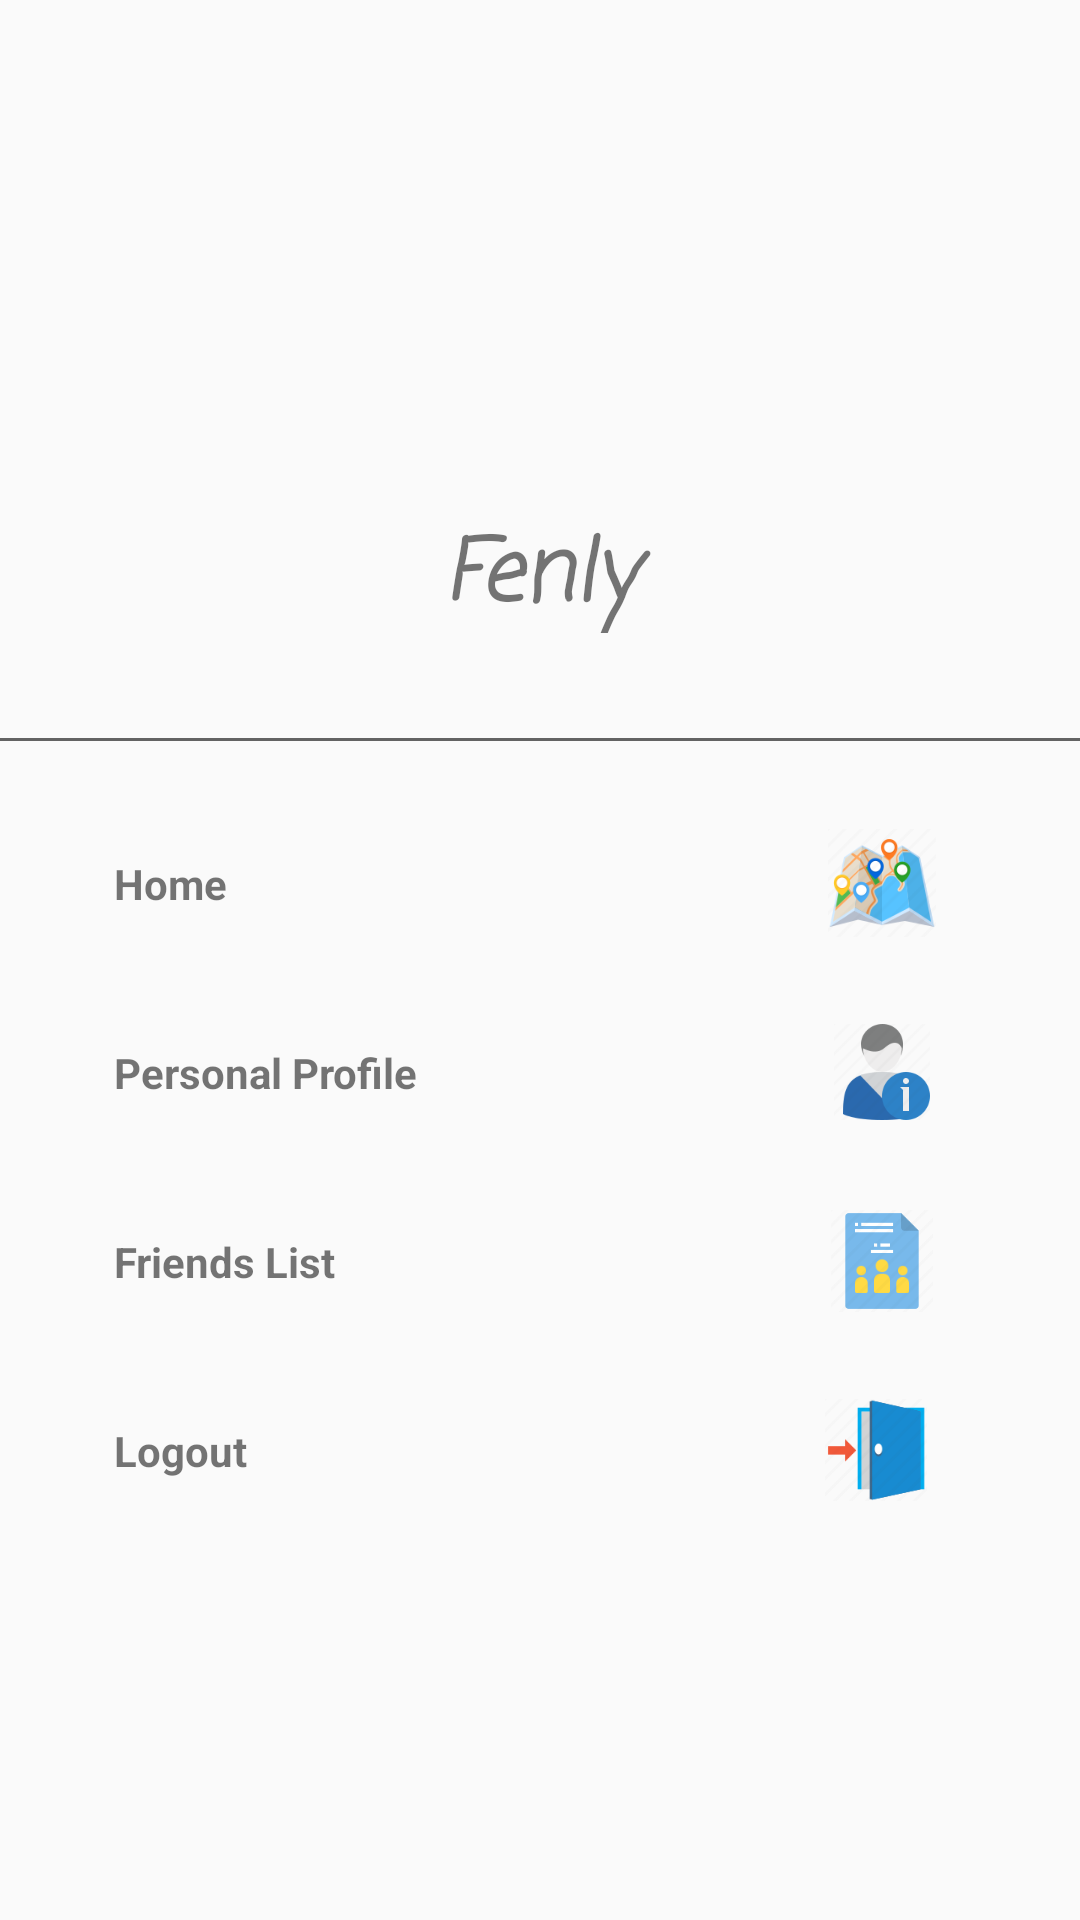

Where to tap for icons on this 1080px×1920px app screen, as point (x, y):
map: point (882, 883)
personal info: point (886, 1072)
